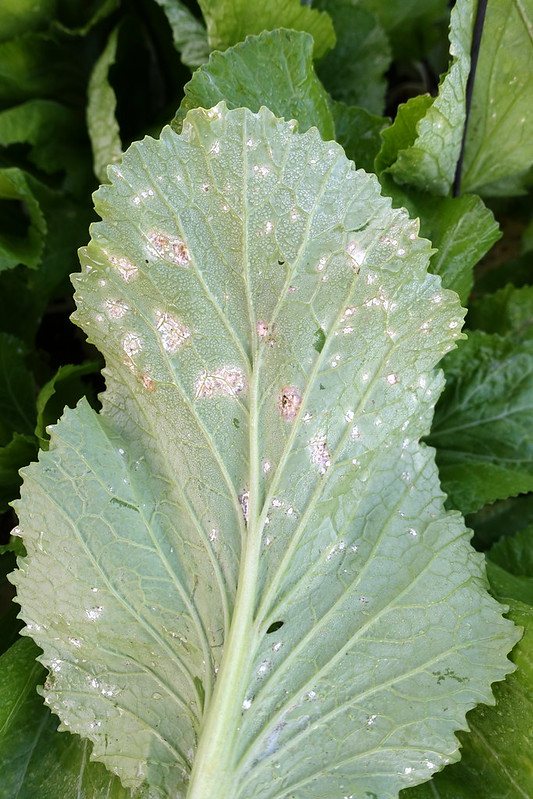Mustard_WhiteRust: (62, 151, 440, 719)
